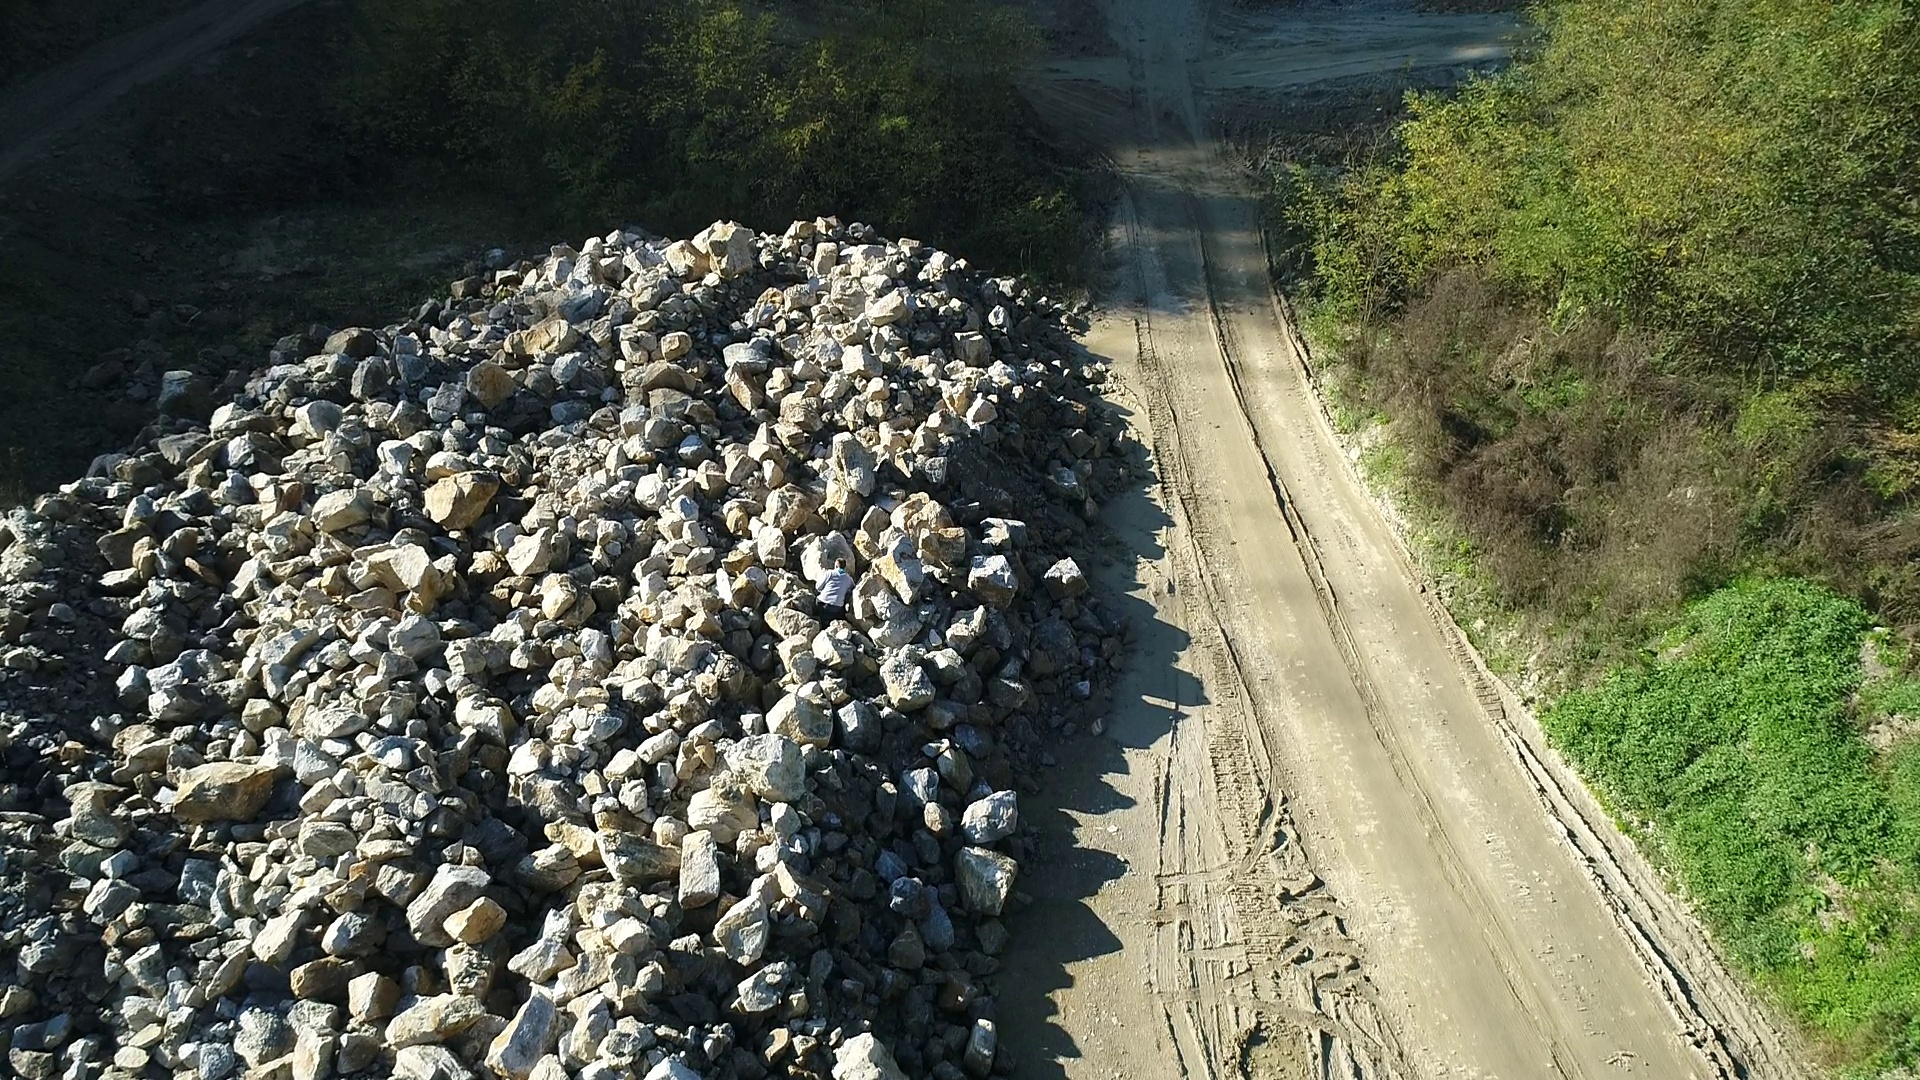person: (813, 558, 856, 622)
